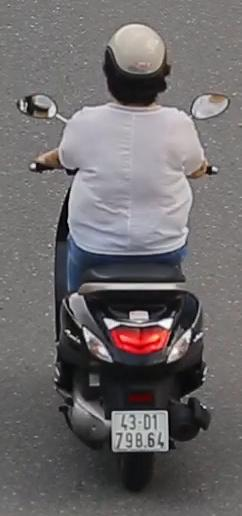LP: (109, 407, 171, 457)
helmet: (101, 20, 171, 111)
